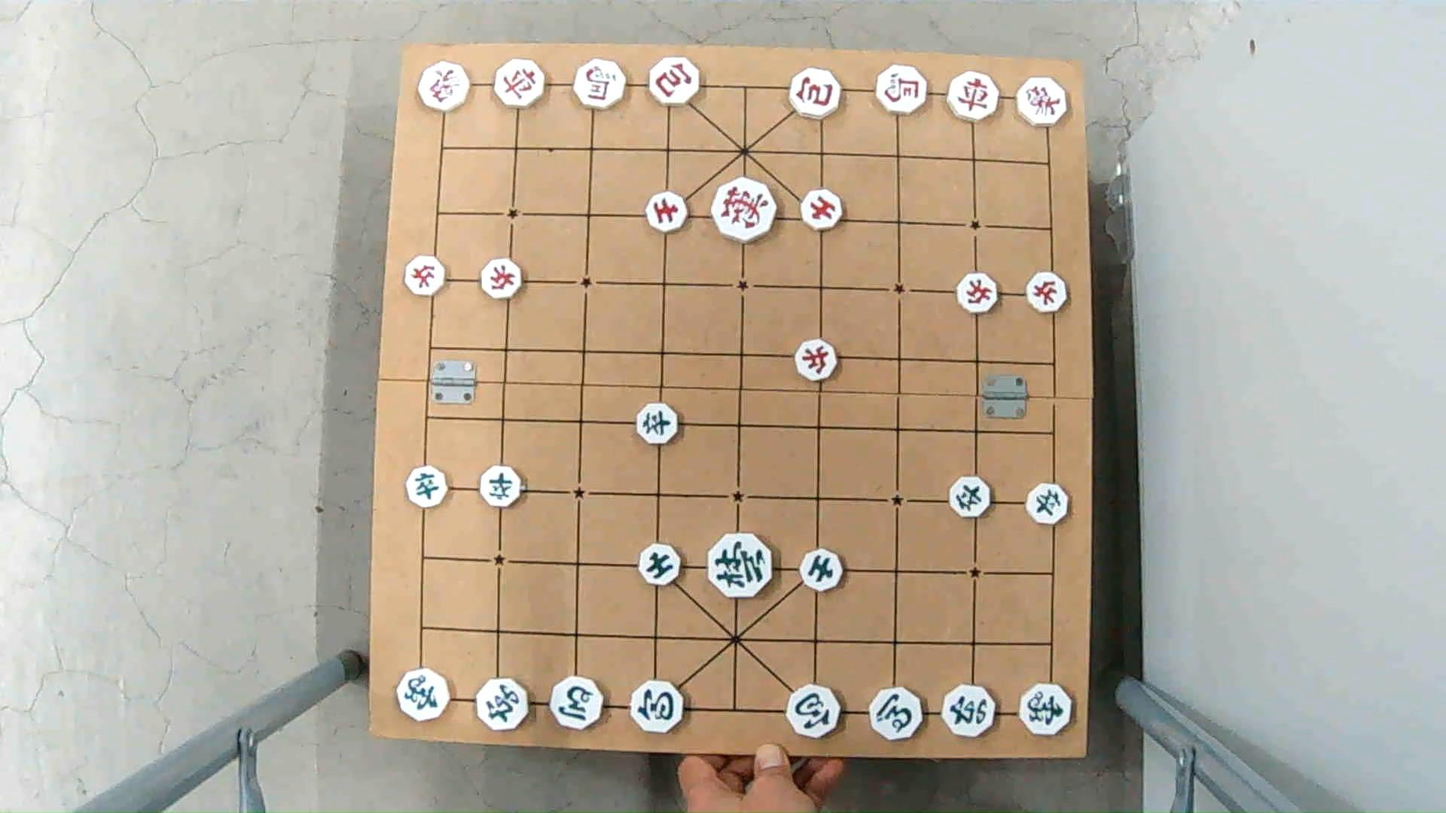cha_green: (474, 681, 532, 730), (941, 687, 999, 735)
cha_red: (491, 62, 551, 107), (945, 72, 1001, 118)
jol_green: (476, 469, 525, 507), (634, 405, 683, 443), (402, 469, 449, 507), (947, 476, 995, 513), (1023, 486, 1069, 523)
jol_red: (794, 343, 842, 381), (480, 261, 527, 298), (953, 275, 1001, 311), (1023, 276, 1069, 313), (401, 259, 447, 294)
ma_green: (865, 690, 924, 739), (547, 678, 605, 724)
ma_red: (572, 58, 630, 109), (877, 64, 929, 111)
po_green: (627, 684, 683, 733), (787, 689, 844, 737)
po_red: (786, 72, 846, 117), (647, 61, 704, 105)
sa_green: (796, 547, 847, 590), (635, 547, 683, 585)
sa_red: (798, 190, 845, 230), (642, 193, 690, 229)
sang_green: (1017, 687, 1076, 735), (393, 668, 450, 717)
sang_red: (1013, 79, 1071, 123), (419, 61, 471, 110)
wang_green: (705, 534, 774, 598)
wang_red: (709, 179, 777, 244)
